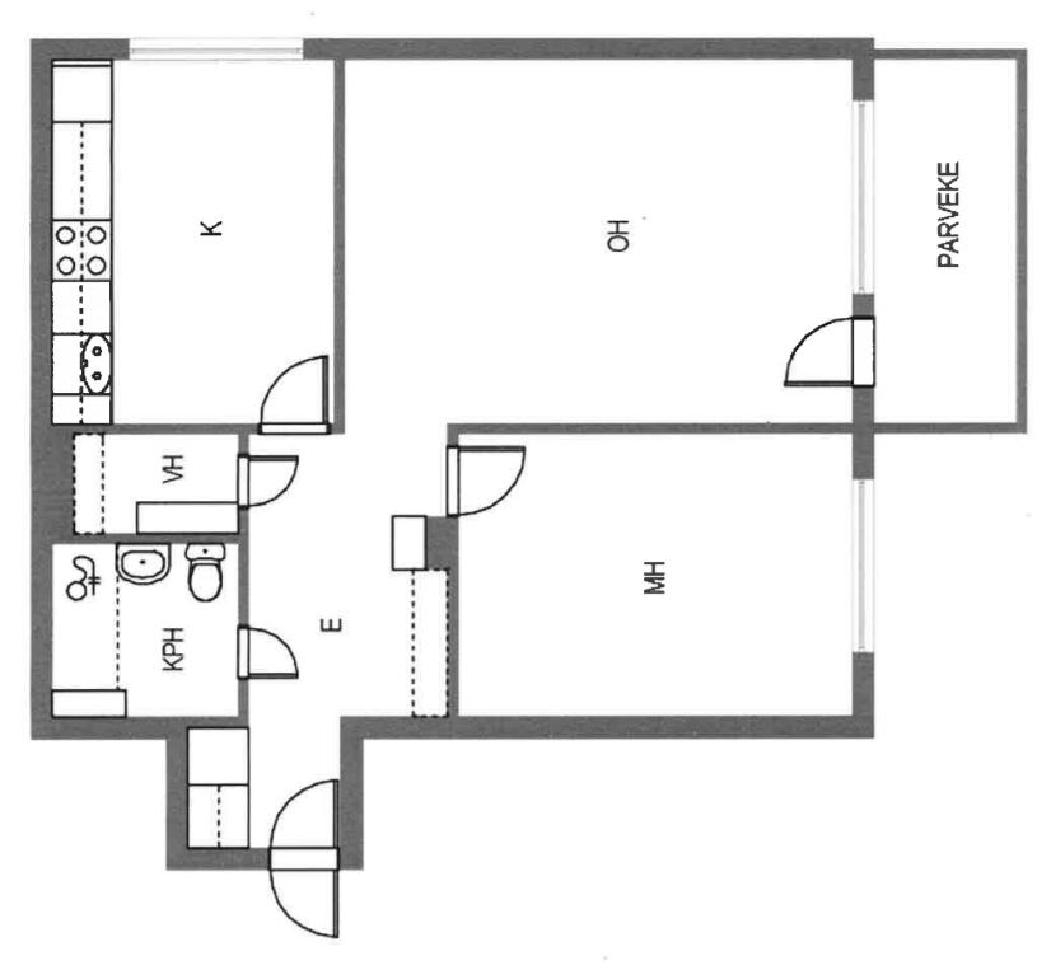door: (268, 765, 351, 944), (783, 317, 883, 399), (249, 350, 337, 442), (445, 446, 537, 515), (232, 455, 303, 517), (239, 627, 305, 687)
window: (850, 100, 875, 294), (133, 32, 301, 58), (857, 475, 876, 656)
zone: (191, 57, 853, 851), (457, 432, 853, 725), (48, 63, 333, 427), (53, 60, 332, 425), (870, 58, 1014, 424), (50, 540, 240, 710), (69, 434, 235, 533)
